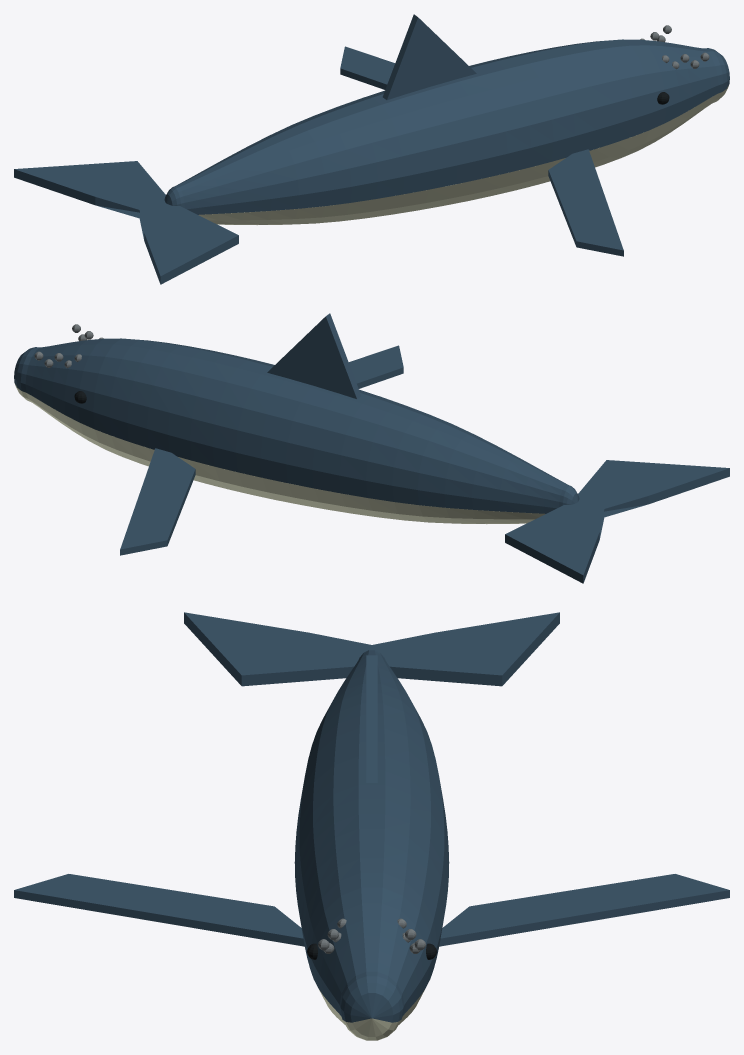
Rendered from humpback-whale.dae.
3 renders of one model, top to bottom at view 1: azimuth 30°, elevation 25°; view 2: azimuth 150°, elevation 25°; view 3: azimuth 270°, elevation 25°, orthographic. The views are drawn at different scales.
Visible parts, largest first — view 1: part3-node, part2-node, part0-node; view 2: part3-node, part2-node, part0-node; view 3: part3-node, part2-node, part0-node.
Boxes of the visible parts, x1,y1,x2,y2 form: part3-node: (14,14,729,284); part2-node: (198,84,729,225); part0-node: (640,25,709,69); part3-node: (14,313,729,583); part2-node: (14,383,545,524); part0-node: (34,324,103,368); part3-node: (14,612,729,1022); part2-node: (319,989,424,1040); part0-node: (318,918,425,953).
Bounding box in the file's own units: 14 × 10.57 × 4.01.
